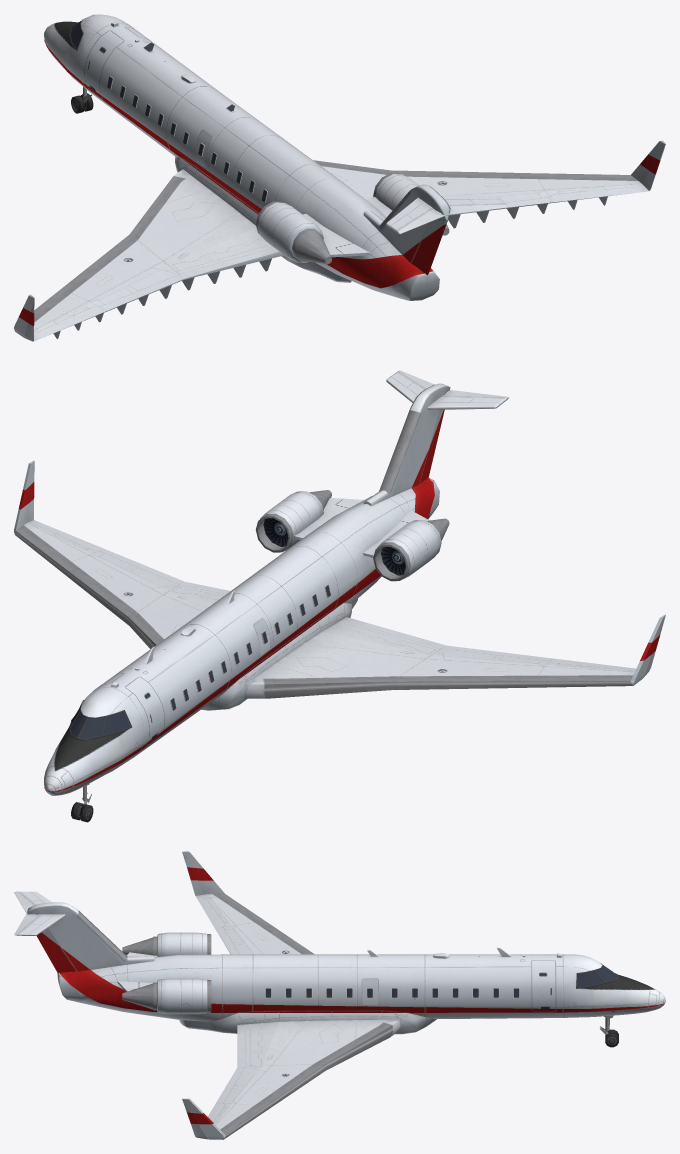
The model's file is Airplane_Small_Passenger_With_Wheels.glb.
3 views of the same model, one above another, from view 1: azimuth 30°, elevation 25°; view 2: azimuth 150°, elevation 25°; view 3: azimuth 270°, elevation 25° (orthographic). The views are drawn at different scales.
Parts seen in each view (by area): view 1: Airplane_Small_Passenger_With_Wheels__LOD3; view 2: Airplane_Small_Passenger_With_Wheels__LOD3; view 3: Airplane_Small_Passenger_With_Wheels__LOD3.
Part boxes in pixels (left/top/right/bottom): Airplane_Small_Passenger_With_Wheels__LOD3: left=14, top=14, right=665, bottom=341; Airplane_Small_Passenger_With_Wheels__LOD3: left=14, top=370, right=665, bottom=822; Airplane_Small_Passenger_With_Wheels__LOD3: left=14, top=851, right=665, bottom=1139.
Bounding box in the file's own units: 20.16 × 5.35 × 22.37.
1 material, 1 textured.
